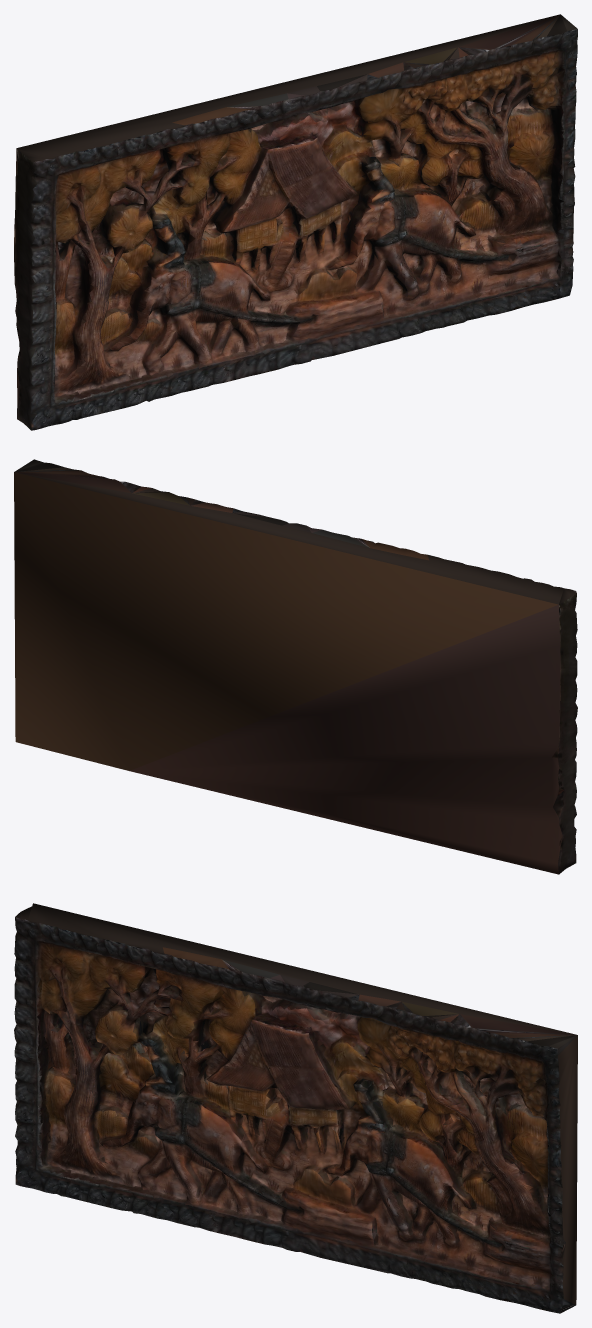
Rendered from woodcarving.fbx.
3 renders of one model, top to bottom at view 1: azimuth 30°, elevation 25°; view 2: azimuth 150°, elevation 25°; view 3: azimuth 330°, elevation 25°, orthographic.
Visible parts, largest first — view 1: model; view 2: model; view 3: model.
Boxes of the visible parts, box(x1,y1,x2,y2) form: model: box(14, 14, 577, 430); model: box(14, 459, 577, 874); model: box(14, 903, 577, 1313).
Size of the model in its own units: 0.6 by 0.2843 by 0.0385.
